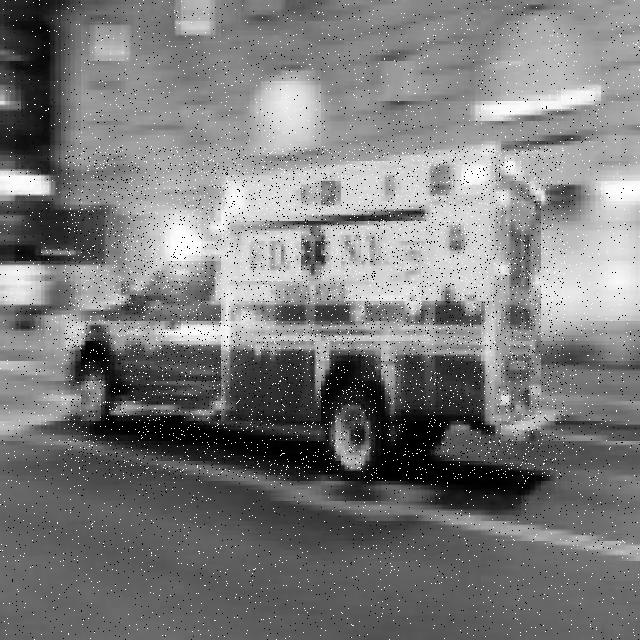Ambulance: (64, 146, 565, 479)
